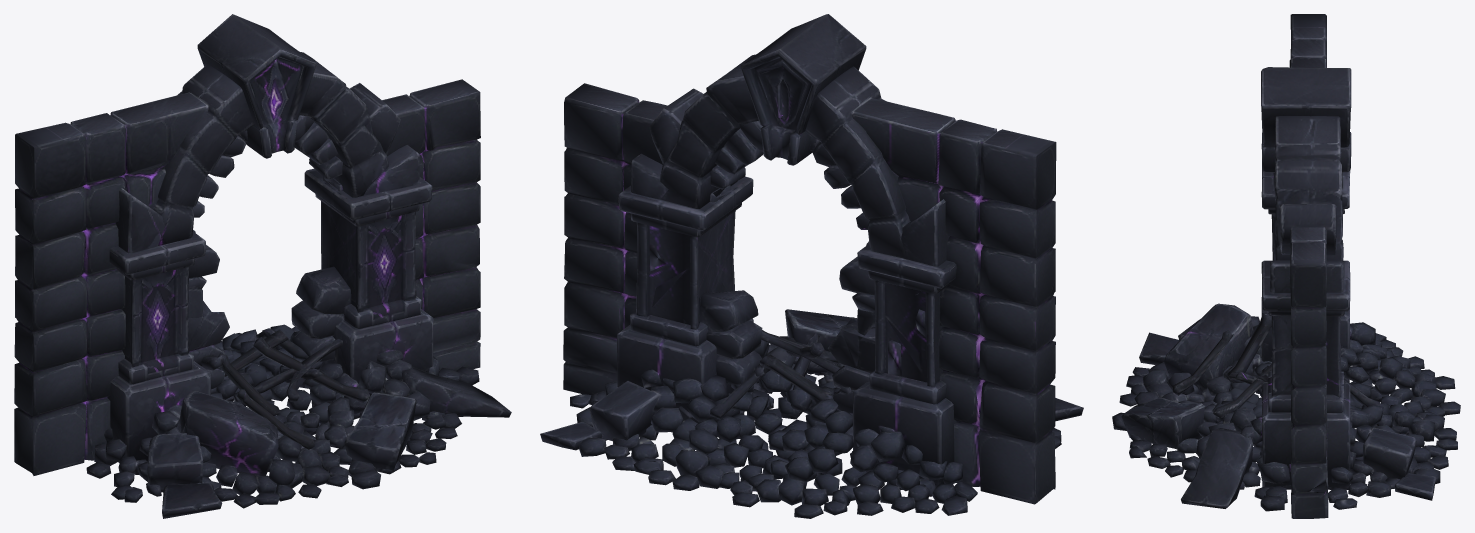
The model's file is door_violet_ruin_gateway.glb.
3 renders of one model, left to right at view 1: azimuth 30°, elevation 25°; view 2: azimuth 150°, elevation 25°; view 3: azimuth 270°, elevation 25°, orthographic. The views are drawn at different scales.
Parts seen in each view (by area): view 1: mesh_node; view 2: mesh_node; view 3: mesh_node.
Boxes of the visible parts, bbox=[...] form: mesh_node: bbox=[14, 14, 511, 518]; mesh_node: bbox=[540, 14, 1083, 518]; mesh_node: bbox=[1112, 14, 1460, 518].
Size of the model in its own units: 1 by 0.8477 by 0.7344.
Materials: 1 (1 with a texture image).
